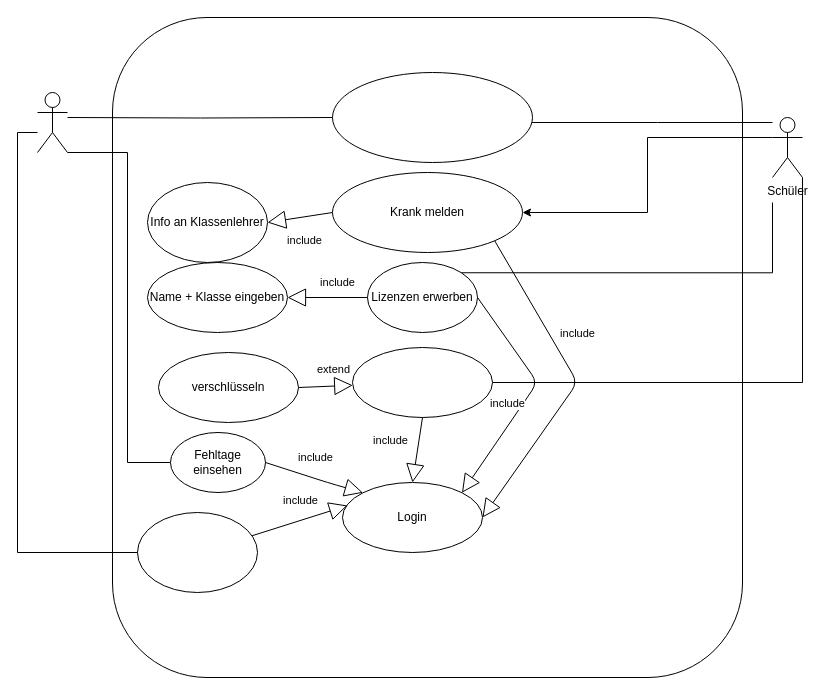
Some shapes in this 825 by 695 pixel diagram are drawn without their labels. The centre of each missing label's shape, as x and y in pixels:
"Ausbildungsbetrieb kontaktieren" goes at (x=197, y=552).
"E-Mail verschicken" goes at (x=422, y=382).
"Informationen der G18" goes at (x=432, y=117).
"Lehrer" goes at (x=52, y=122).
